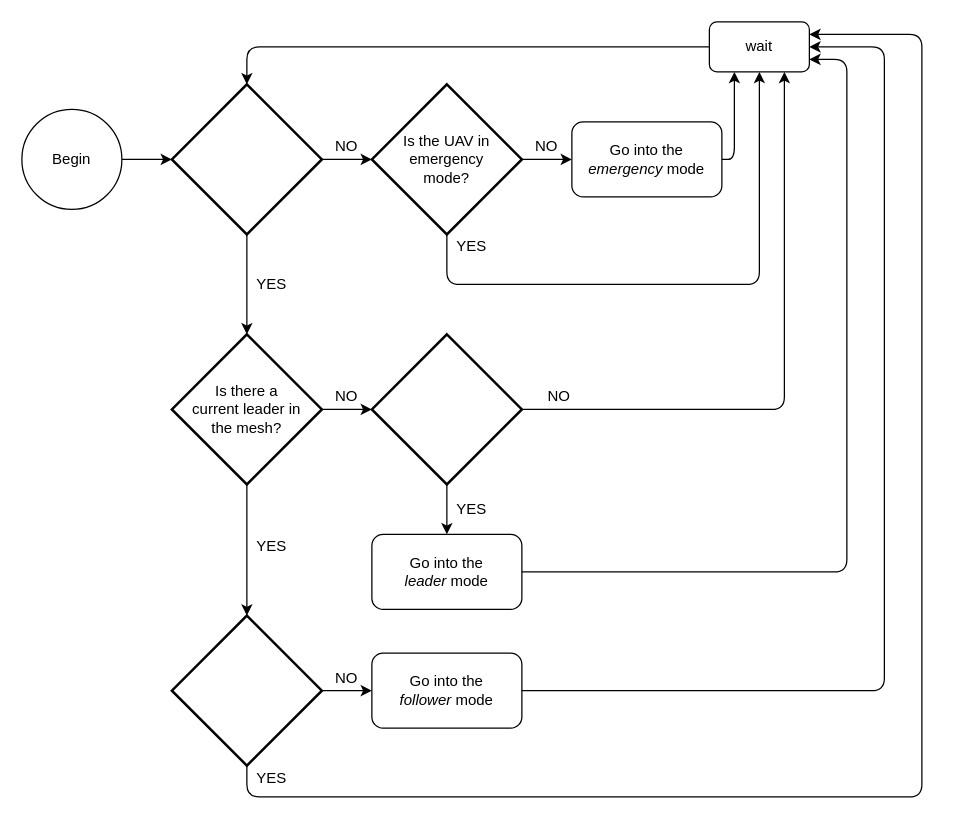
Some shapes in this 954 by 829 pixel diagram are drawn without their labels. The box of each missing label's shape, as (x1, y1, x2, y2) in pixels:
Is the UAV a standby leader?: (370, 332, 522, 485)
Is the UAV connected to the mesh?: (170, 82, 322, 235)
Is the UAV in follower mode?: (170, 614, 322, 766)
